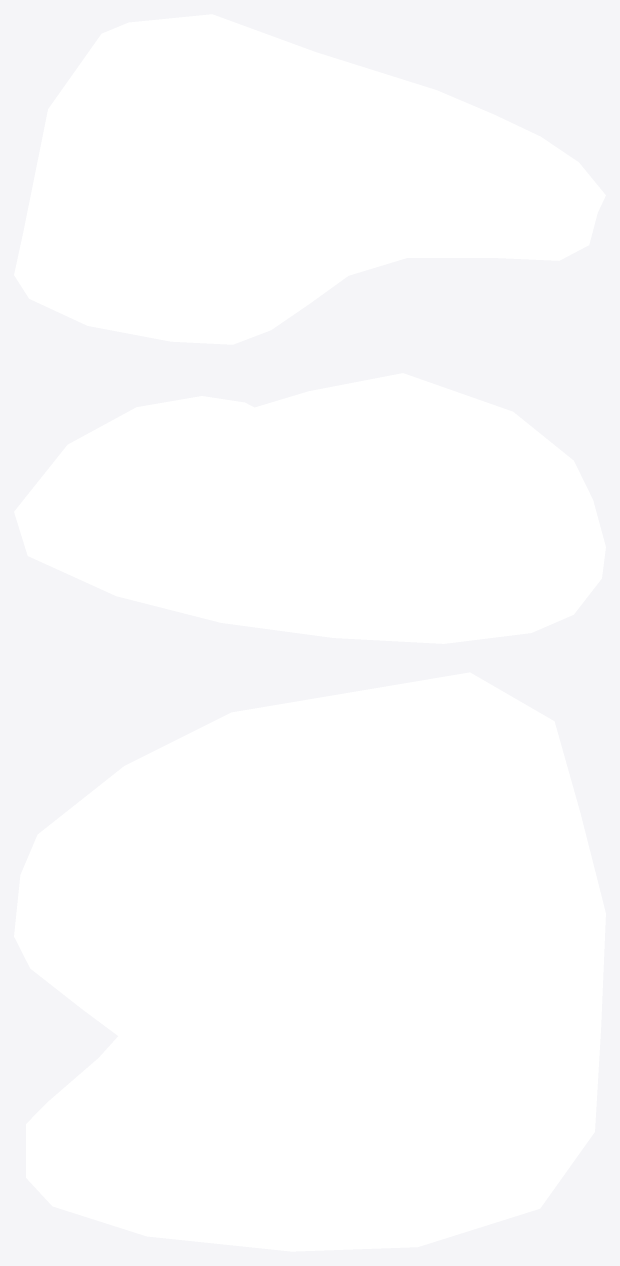
The model's file is snow_hill_001.glb.
3 renders of one model, top to bottom at view 1: azimuth 30°, elevation 25°; view 2: azimuth 150°, elevation 25°; view 3: azimuth 270°, elevation 25°, orthographic. The views are drawn at different scales.
Visible parts, largest first — view 1: snow_hill_001; view 2: snow_hill_001; view 3: snow_hill_001.
Boxes of the visible parts, x1,y1,x2,y2 form: snow_hill_001: [14, 14, 605, 344]; snow_hill_001: [14, 373, 605, 643]; snow_hill_001: [14, 672, 605, 1251].
Size of the model in its own units: 7.23 by 2.63 by 4.64.
Materials: 1 (1 with a texture image).
